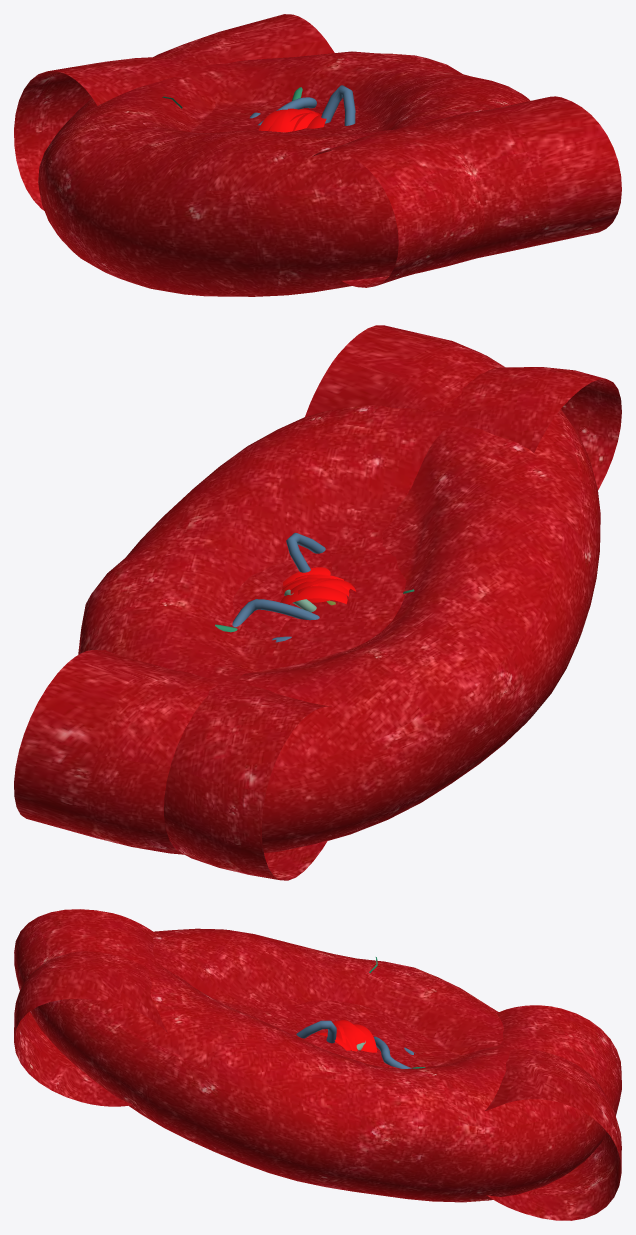
The model's file is platelet.tablet.glb.
3 views of the same model, one above another, from view 1: azimuth 30°, elevation 25°; view 2: azimuth 150°, elevation 25°; view 3: azimuth 270°, elevation 25° (orthographic). The views are drawn at different scales.
Visible parts, largest first — view 1: blood.015_0, blood.001_26, Cube.019_32; view 2: blood.015_0, blood.001_26, Cube.019_32; view 3: blood.001_26, blood.015_0, Cube.019_32.
Boxes of the visible parts, box(x1,y1,x2,y2) form: blood.015_0: box(38, 14, 621, 296); blood.001_26: box(14, 51, 530, 287); Cube.019_32: box(162, 85, 355, 125); blood.015_0: box(14, 325, 600, 854); blood.001_26: box(78, 367, 621, 880); Cube.019_32: box(215, 532, 414, 642); blood.001_26: box(14, 909, 621, 1202); blood.015_0: box(14, 928, 621, 1220); Cube.019_32: box(296, 957, 425, 1068).
Bounding box in the file's own units: 311845 × 198595 × 480580.
Materials: 11 (4 with a texture image).
